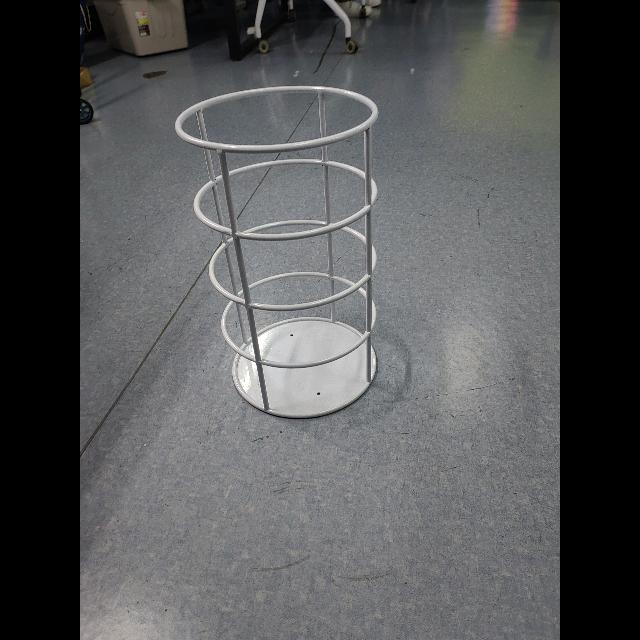S: (170, 84, 382, 422)
